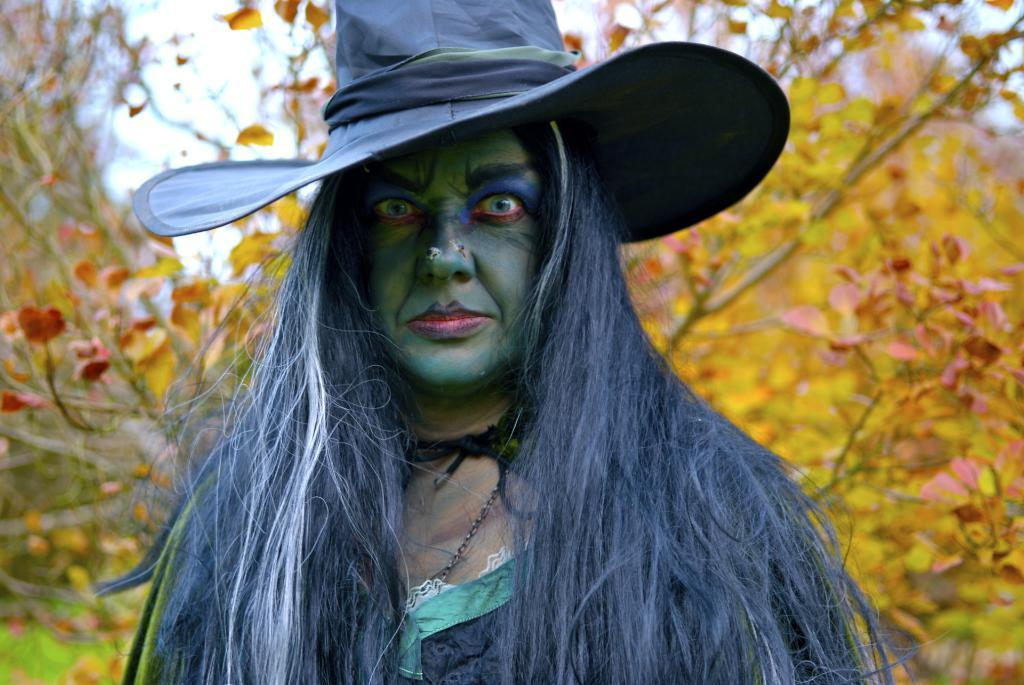Hat: (132, 0, 792, 247)
